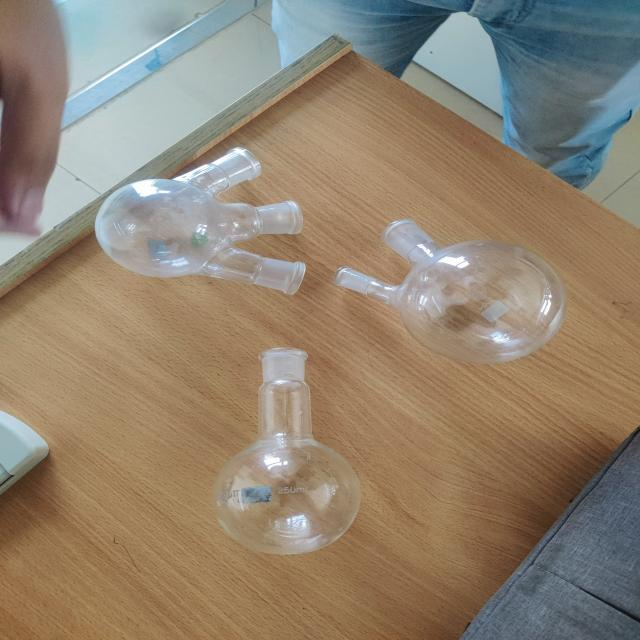Round_Bottom_Flask_Borosilicate_Glass_1_Neck: (205, 322, 376, 574)
Round_Bottom_Flask_Borosilicate_Glass_2_Neck: (299, 184, 604, 378)
Round_Bottom_Flask_Borosilicate_Glass_3_Neck: (86, 140, 336, 322)
